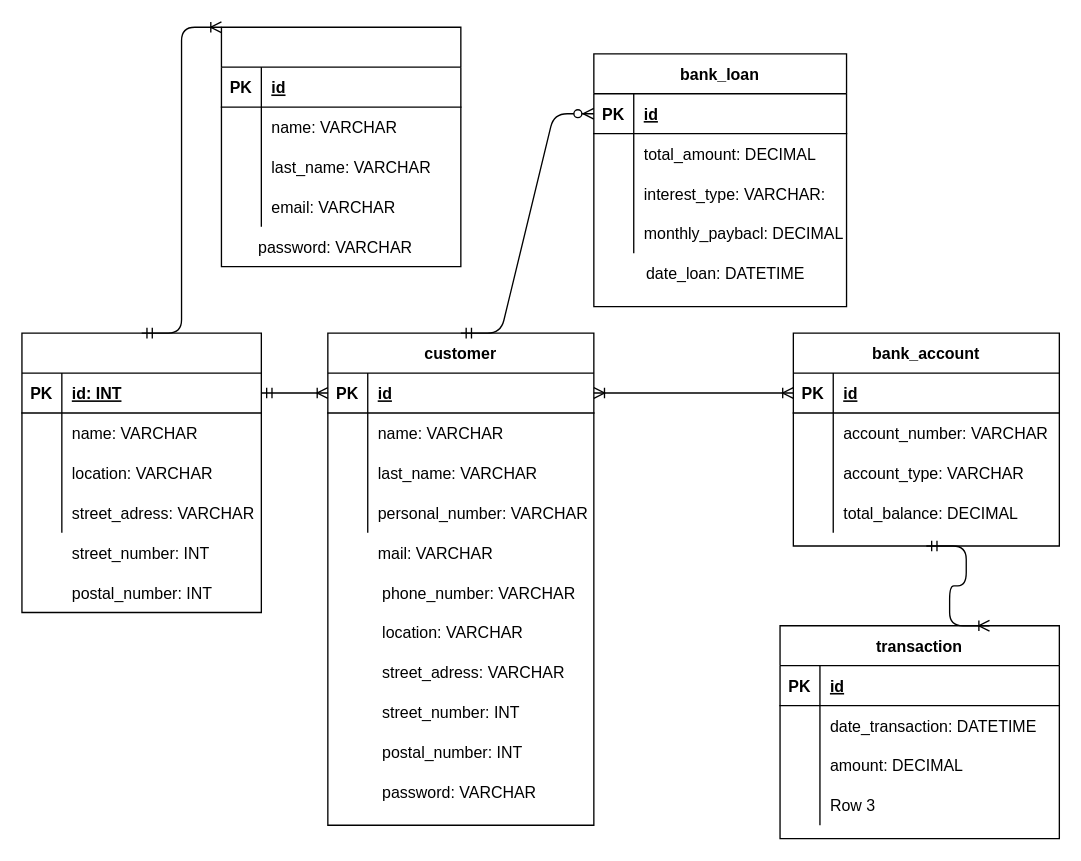
This 1081x861 diagram has some shape labels left out. Each missing label, with the box of its shape:
bank: (21, 332, 261, 612)
service_login: (220, 26, 461, 267)
